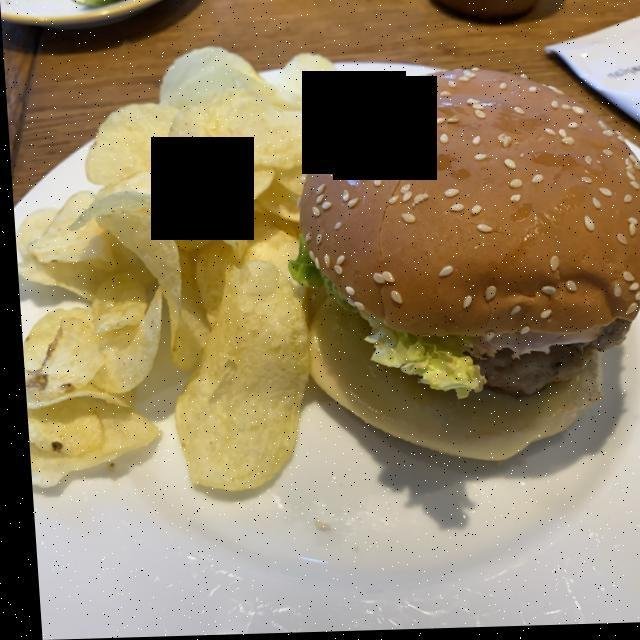crisps: (17, 30, 366, 497)
hamburger: (298, 68, 640, 405)
